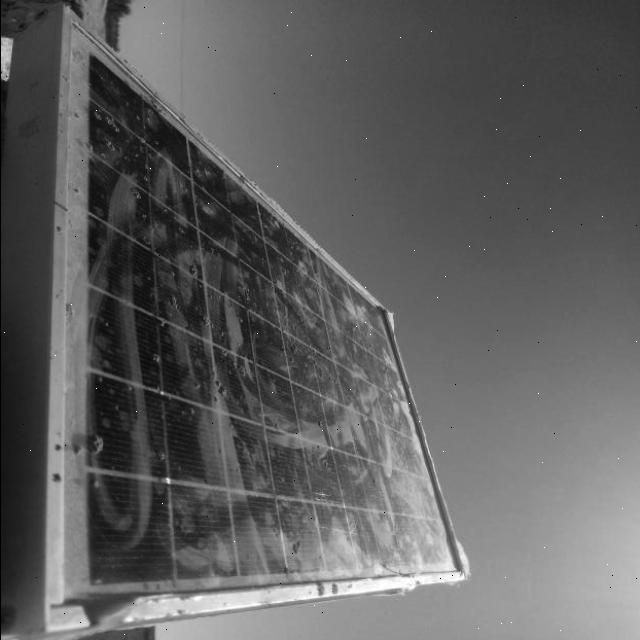Surface Contaminant: (83, 62, 456, 579)
